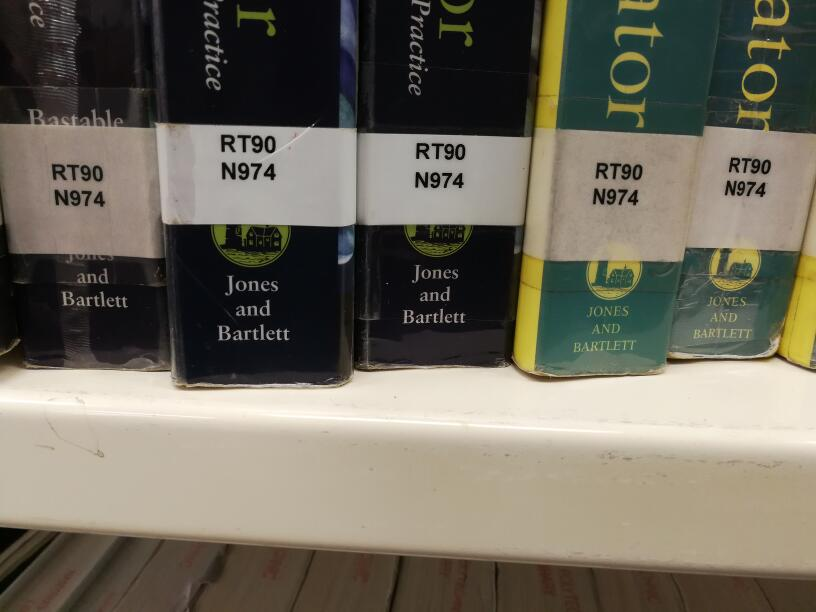booklabel: (215, 132, 277, 181), (45, 161, 108, 209), (589, 158, 645, 207), (412, 140, 468, 188), (723, 154, 773, 200)
